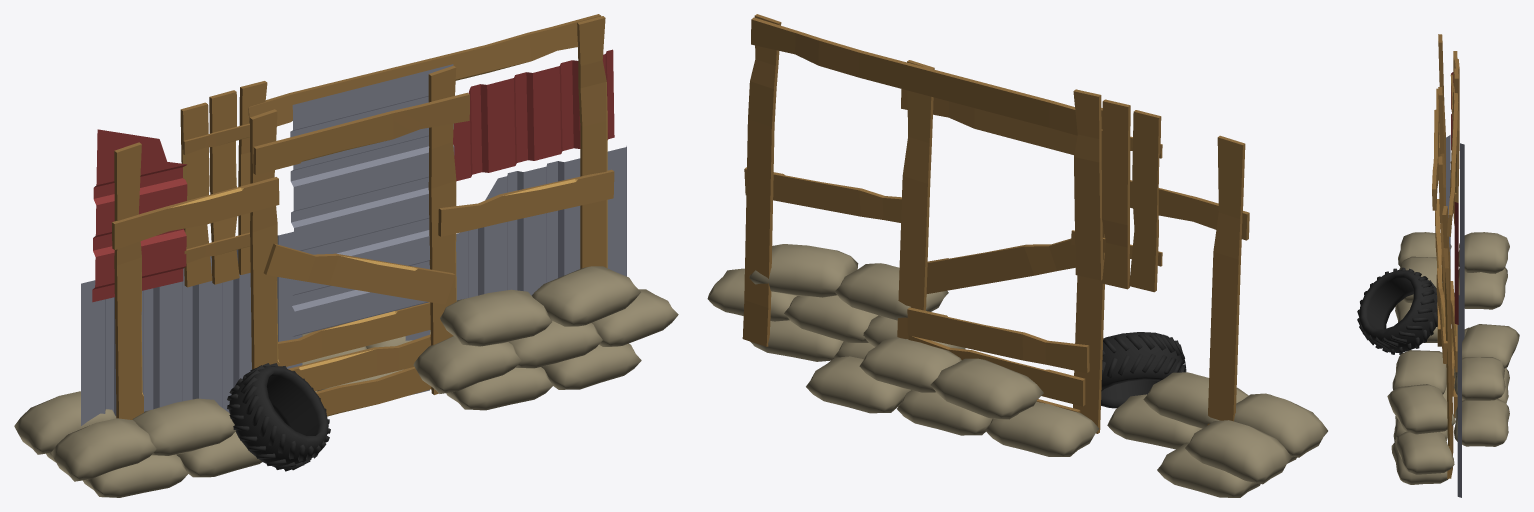
The model's file is BarrierTrash.gltf.
3 views of the same model, side by side, from view 1: azimuth 30°, elevation 25°; view 2: azimuth 150°, elevation 25°; view 3: azimuth 270°, elevation 25° (orthographic). The views are drawn at different scales.
Parts seen in each view (by area): view 1: Barrier_Trash; view 2: Barrier_Trash; view 3: Barrier_Trash.
Part boxes in pixels (left/top/right/bottom): Barrier_Trash: left=14, top=14, right=678, bottom=497; Barrier_Trash: left=707, top=14, right=1327, bottom=497; Barrier_Trash: left=1357, top=34, right=1519, bottom=497.
Size of the model in its own units: 4.49 by 2.51 by 1.31.
